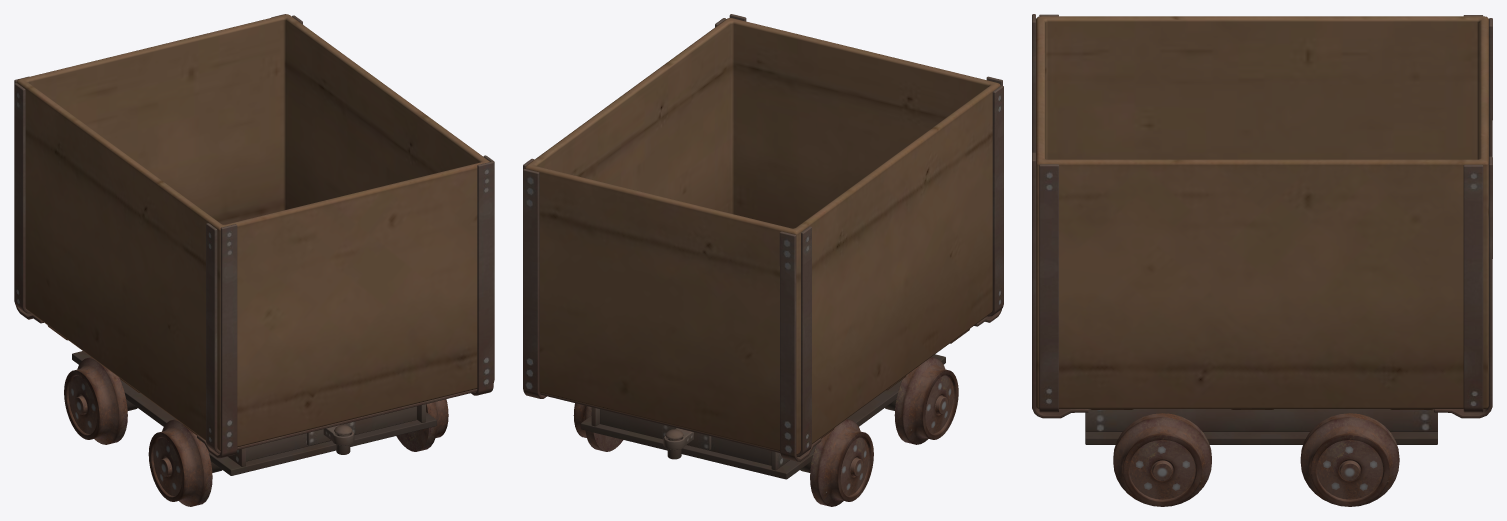
Rendered from 木板矿车-BmUwQ8ux.glb.
The picture shows the model from 3 angles, left to right: view 1: azimuth 30°, elevation 25°; view 2: azimuth 150°, elevation 25°; view 3: azimuth 270°, elevation 25°; orthographic projection. The views are drawn at different scales.
Parts seen in each view (by area): view 1: Mining Cart; view 2: Mining Cart; view 3: Mining Cart.
Boxes of the visible parts, left/top/right/bottom form: Mining Cart: left=14, top=14, right=494, bottom=506; Mining Cart: left=523, top=14, right=1003, bottom=506; Mining Cart: left=1032, top=14, right=1492, bottom=506.
Bounding box in the file's own units: 1.62 × 1.79 × 2.09.
4 materials, 4 textured.
